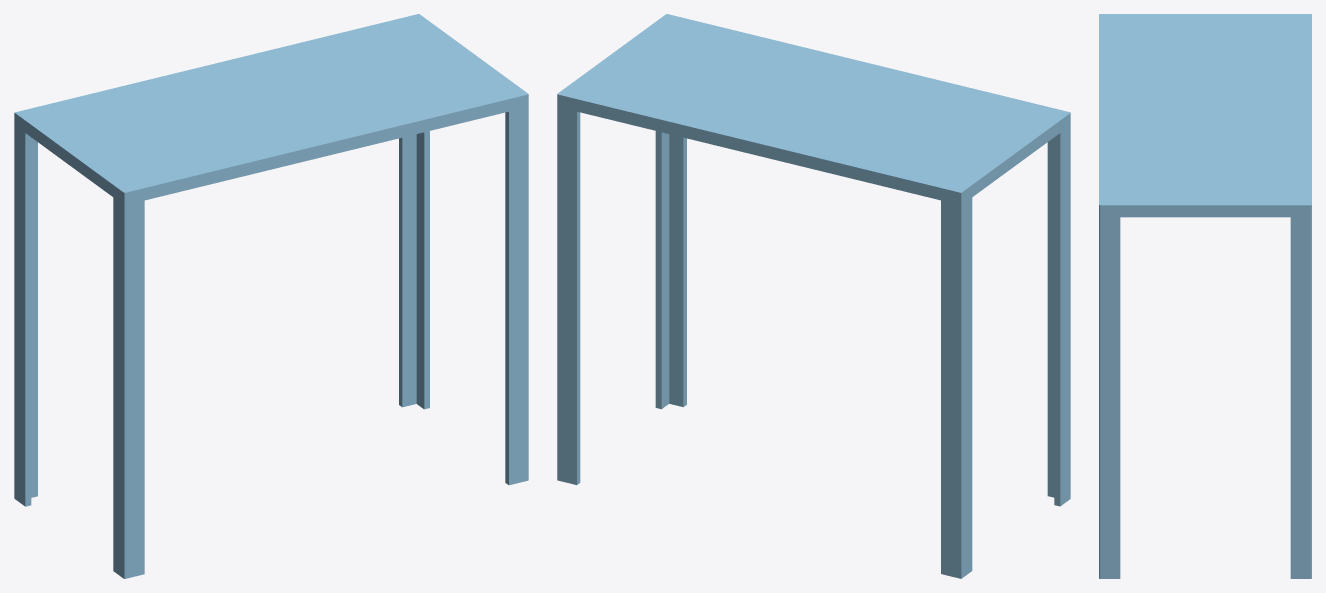
The model's file is table.dae.
3 renders of one model, left to right at view 1: azimuth 30°, elevation 25°; view 2: azimuth 150°, elevation 25°; view 3: azimuth 270°, elevation 25°, orthographic. The views are drawn at different scales.
Parts seen in each view (by area): view 1: 5e7155b8d9dac4133a722f09; view 2: 5e7155b8d9dac4133a722f09; view 3: 5e7155b8d9dac4133a722f09.
Part boxes in pixels (<box>): 5e7155b8d9dac4133a722f09: <box>14,14,528,578</box>; 5e7155b8d9dac4133a722f09: <box>557,14,1070,578</box>; 5e7155b8d9dac4133a722f09: <box>1099,14,1311,578</box>.
Bounding box in the file's own units: 1.7 × 0.8 × 1.55.
